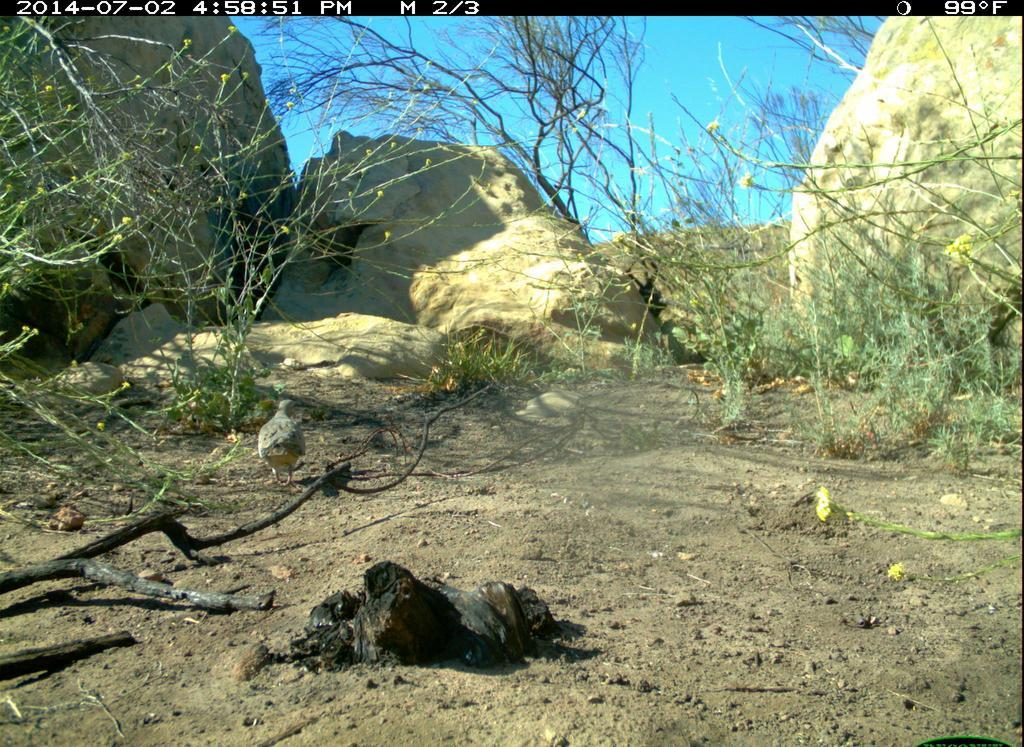bird: (258, 399, 307, 487)
